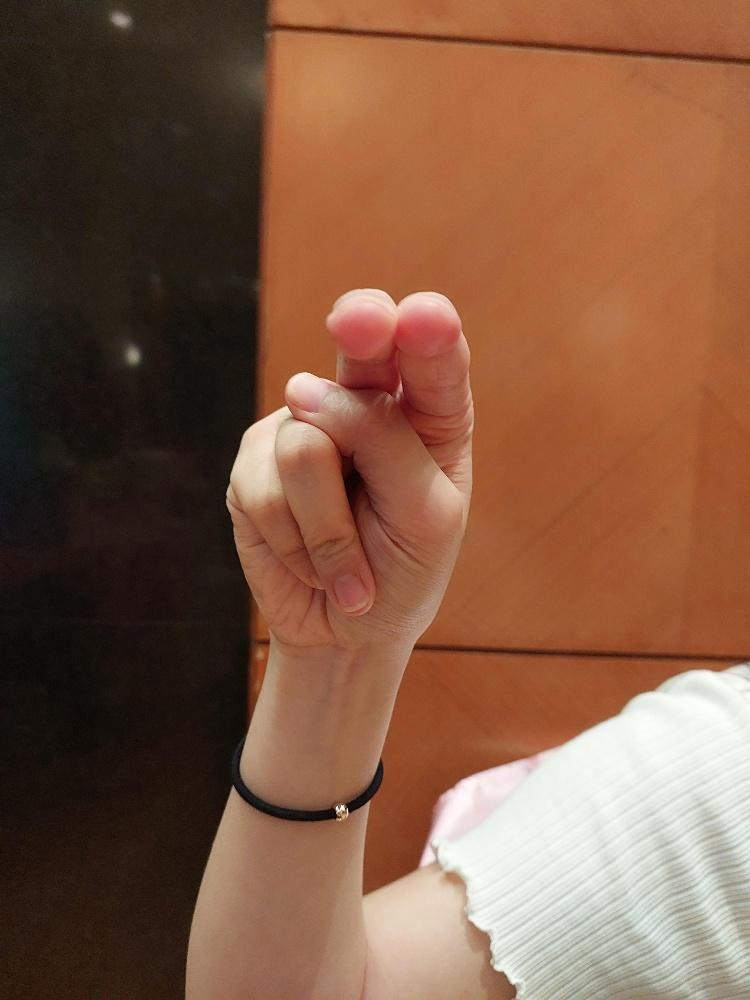n: (221, 285, 476, 655)
